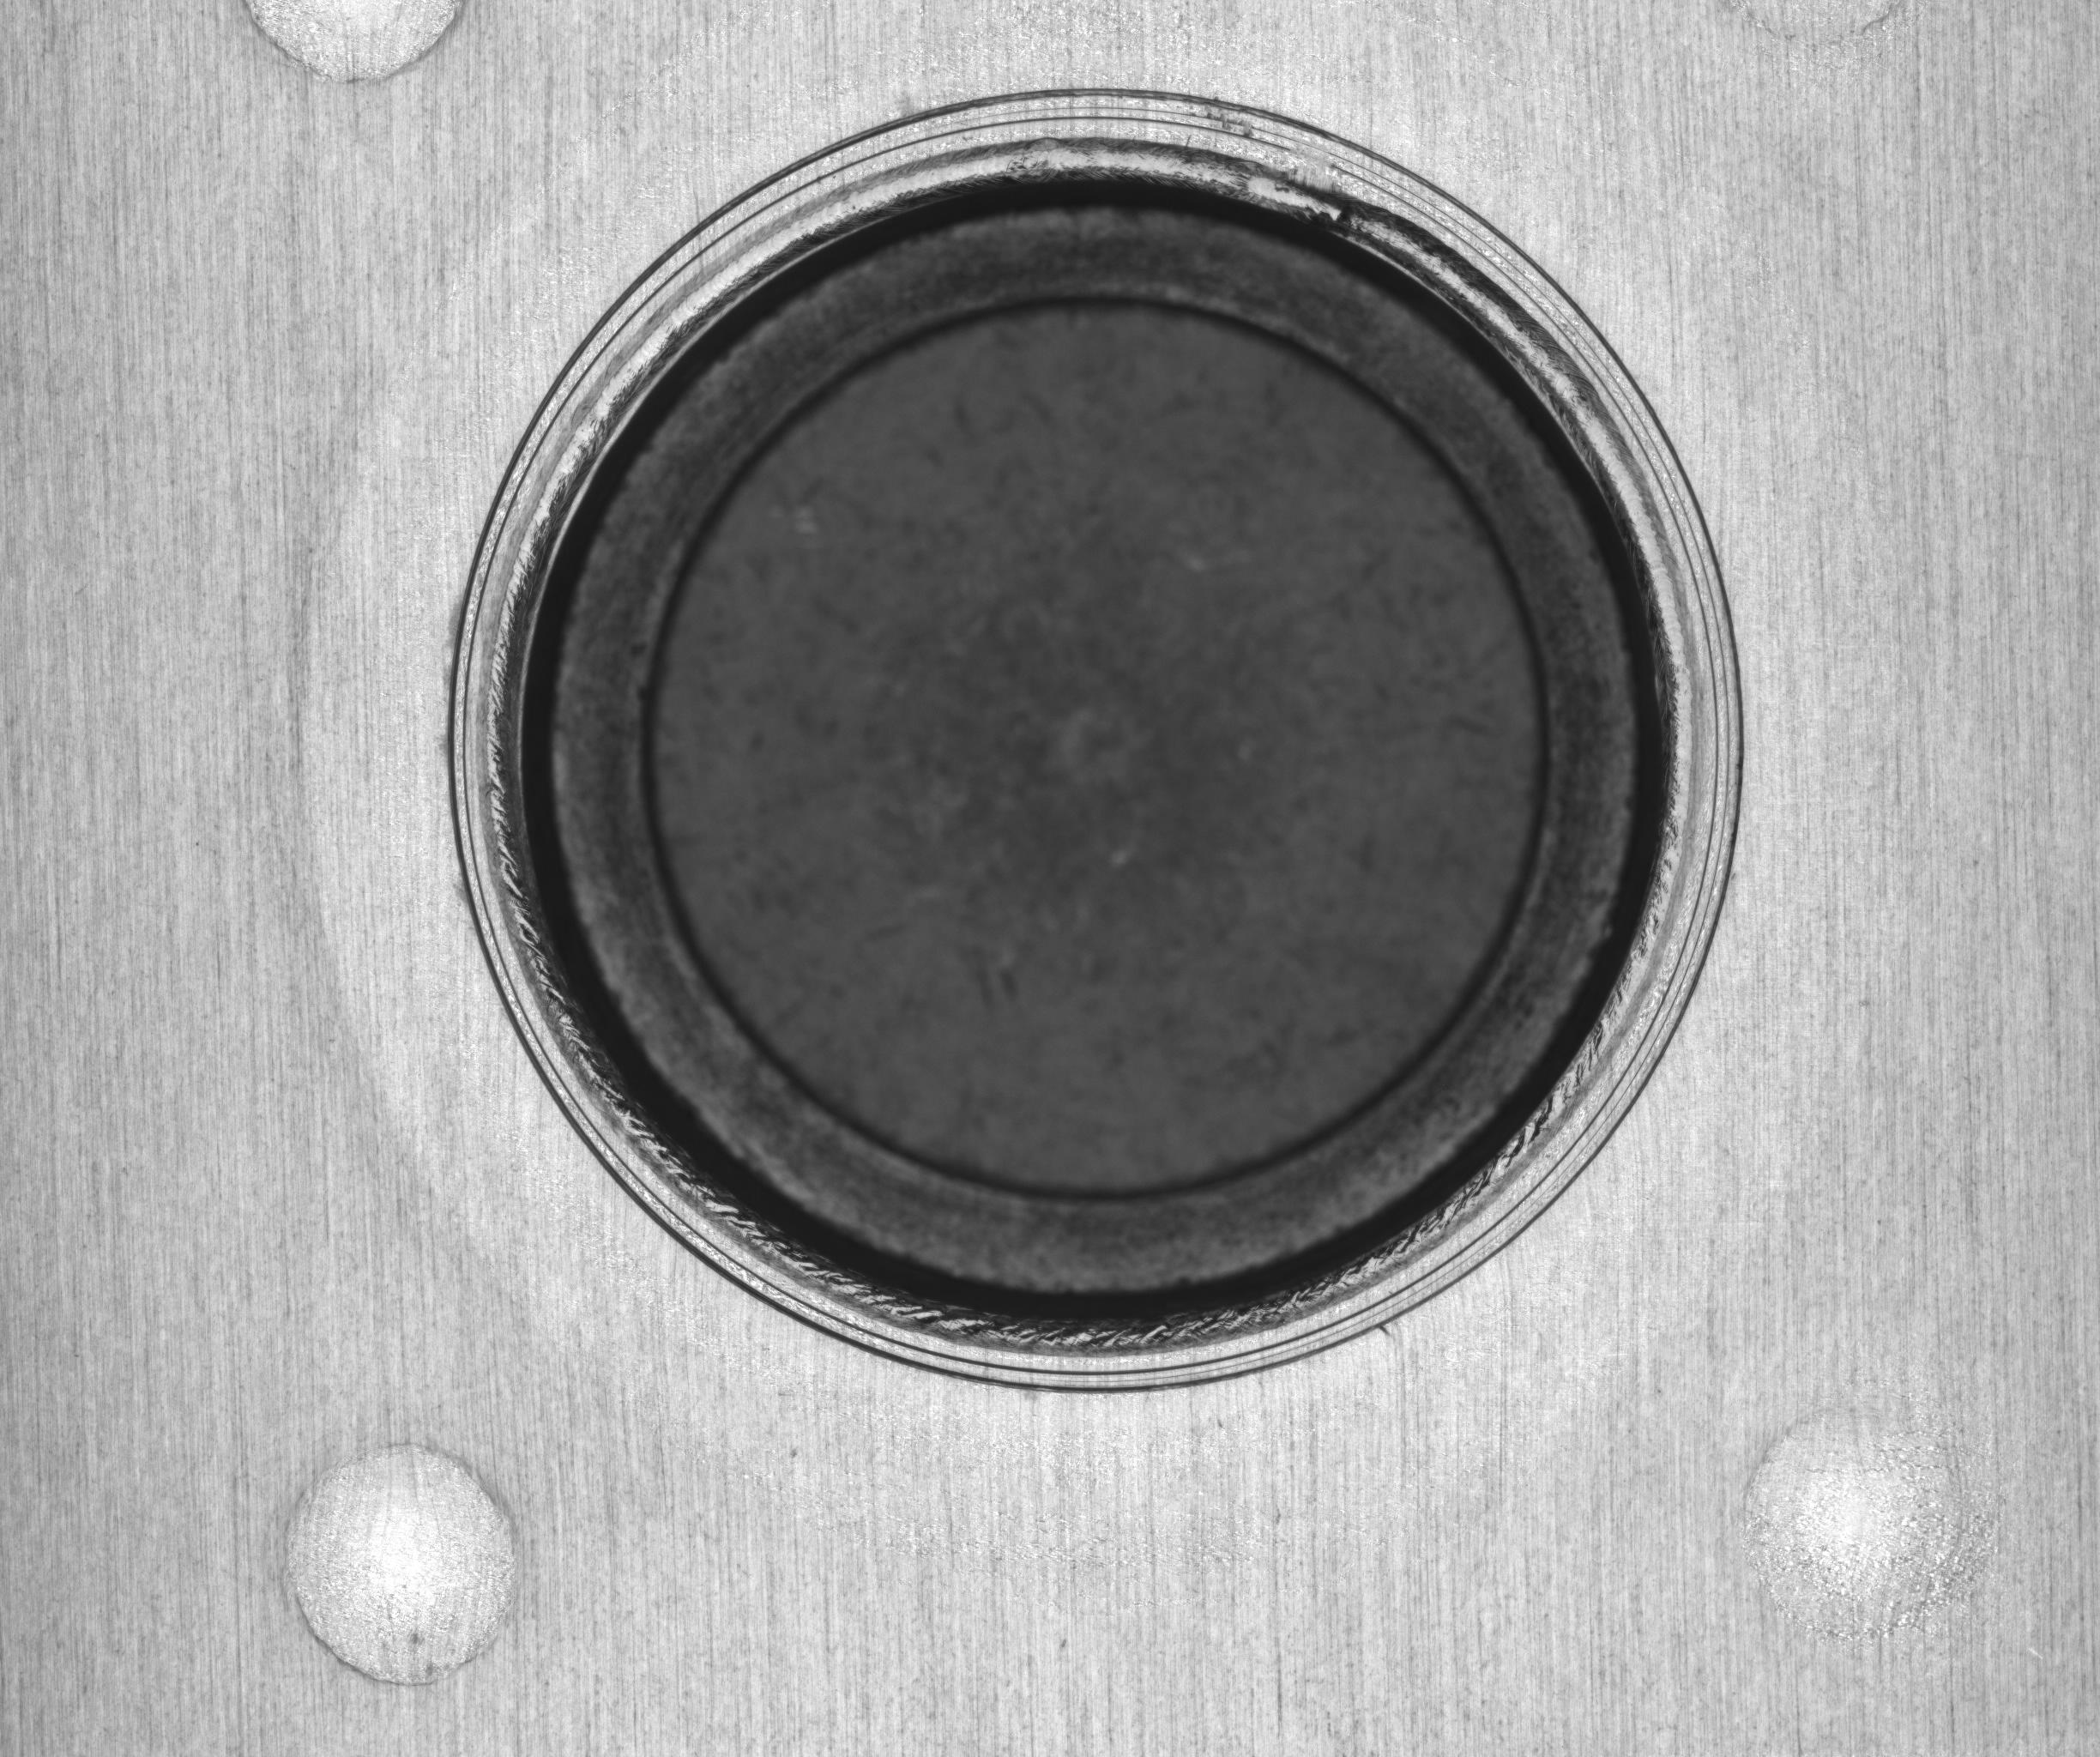coveriswrong: (534, 166, 1659, 1312)
